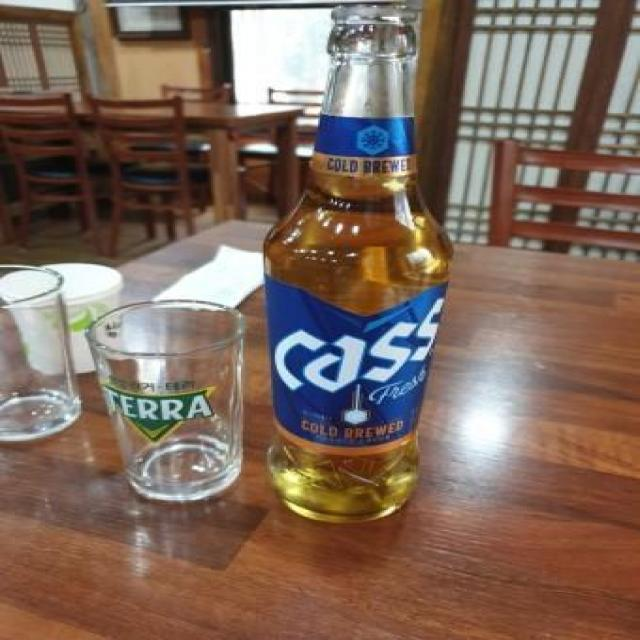beer-bottle: (255, 2, 443, 528)
